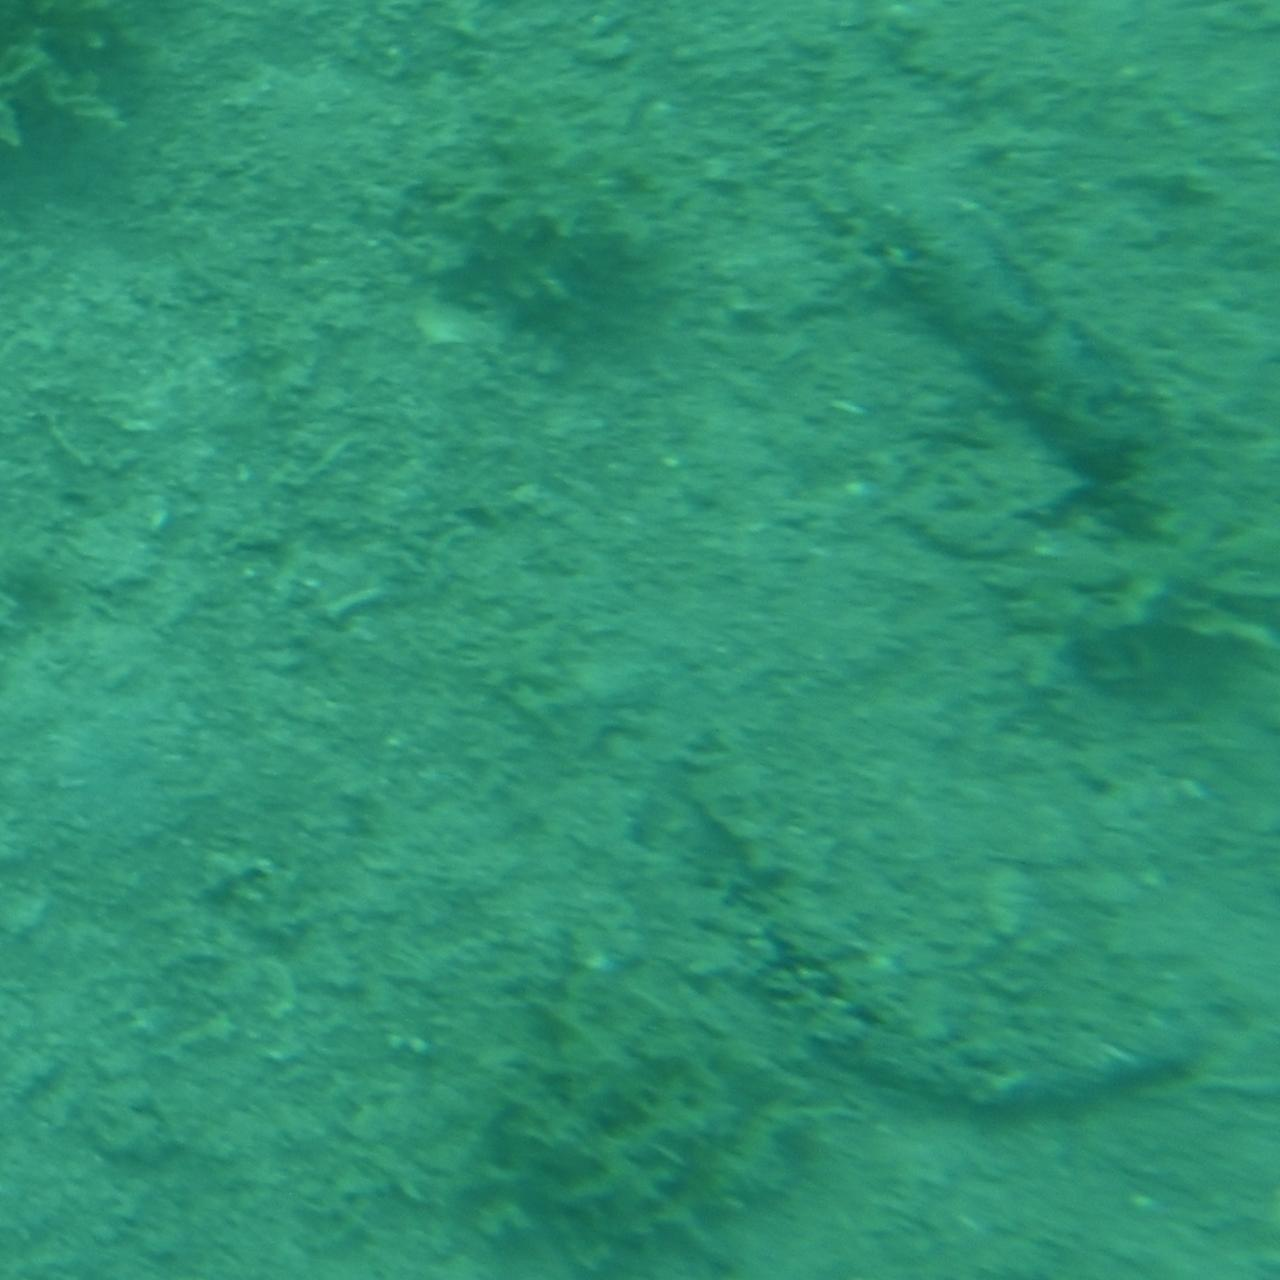Holothuria tubulosa: (647, 763, 1223, 1103), (838, 137, 1201, 558)
